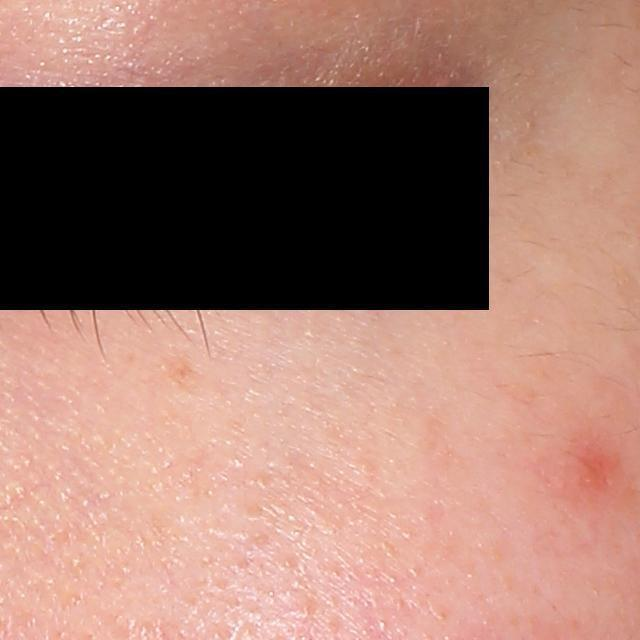melasma: (146, 351, 206, 393)
